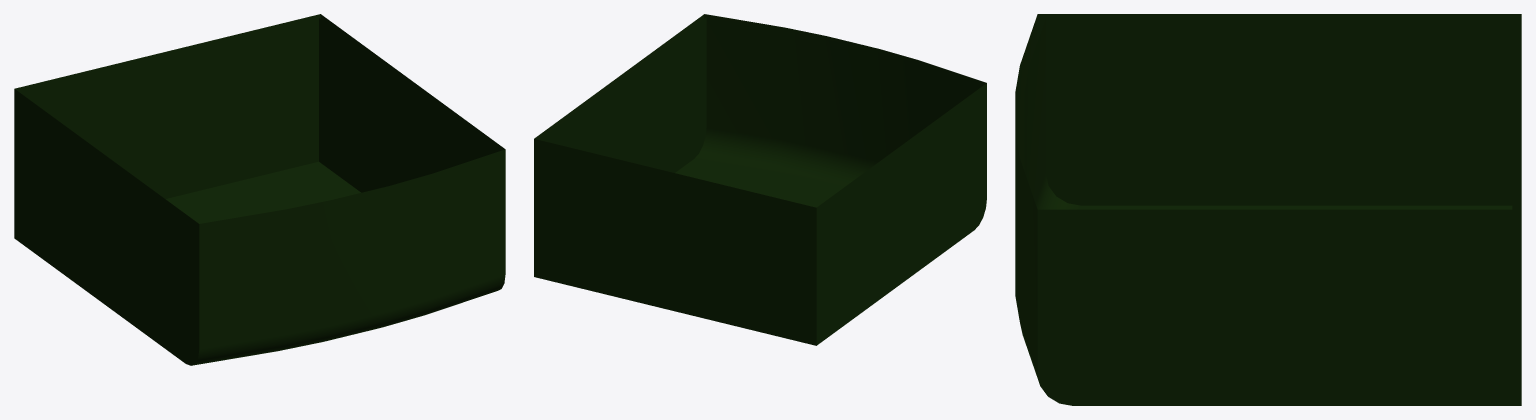
The model's file is Fridge_14_fridge_drawer1_21_1_2.obj.
3 renders of one model, left to right at view 1: azimuth 30°, elevation 25°; view 2: azimuth 150°, elevation 25°; view 3: azimuth 270°, elevation 25°, orthographic. The views are drawn at different scales.
Bounding box in the file's own units: 0.4977 × 0.4161 × 0.5444.
